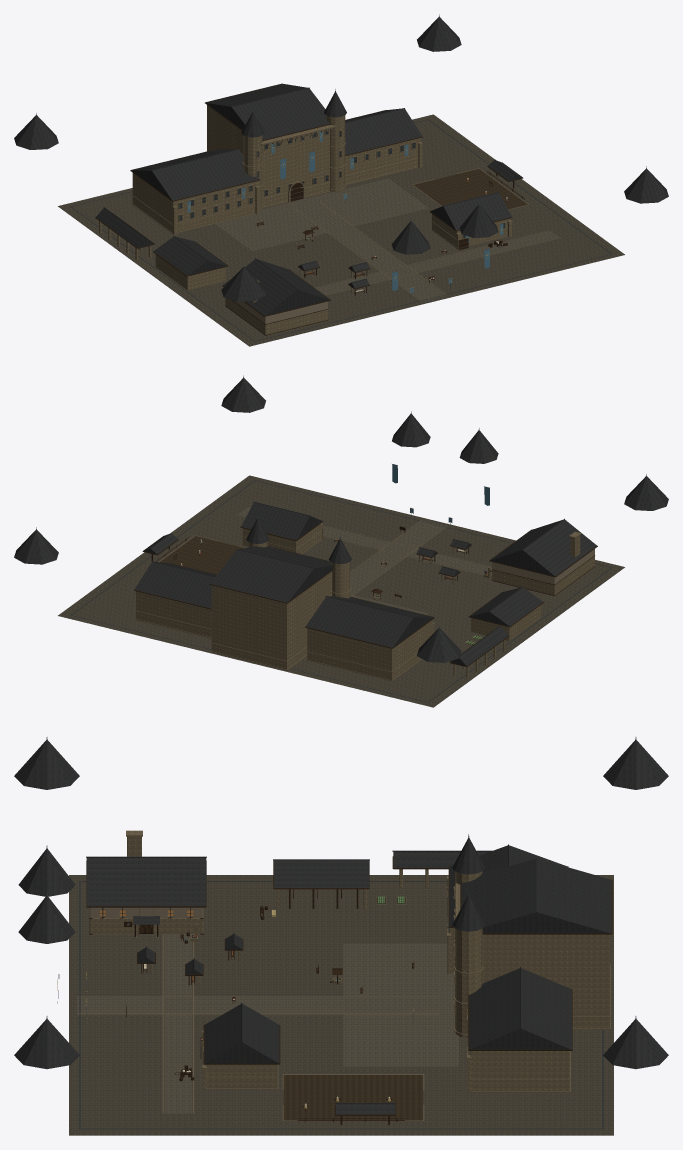
Rendered from courtyard.glb.
3 renders of one model, top to bottom at view 1: azimuth 30°, elevation 25°; view 2: azimuth 150°, elevation 25°; view 3: azimuth 270°, elevation 25°, orthographic. The views are drawn at different scales.
Visible parts, largest first — view 1: Courtyard_paving_courtyard_paving, Courtyard_citadel_dressed_limestone, Courtyard_paving_flagstone, Courtyard_citadel_slate, Courtyard_tower_roofs_slate, Courtyard_tavern_roof_slate, Courtyard_training_sand, Courtyard_stable_building_slate, Courtyard_arsenal_slate, Courtyard_stable_building_dressed_limestone, Courtyard_paving_recess, Courtyard_arsenal_dressed_limestone (+7 smaller); view 2: Courtyard_paving_courtyard_paving, Courtyard_citadel_dressed_limestone, Courtyard_citadel_slate, Courtyard_tower_roofs_slate, Courtyard_paving_flagstone, Courtyard_tavern_roof_slate, Courtyard_arsenal_slate, Courtyard_training_sand, Courtyard_stable_building_slate, Courtyard_paving_recess, Courtyard_arsenal_dressed_limestone, Courtyard_stable_building_dressed_limestone (+5 smaller); view 3: Courtyard_paving_courtyard_paving, Courtyard_paving_flagstone, Courtyard_citadel_slate, Courtyard_citadel_dressed_limestone, Courtyard_tower_roofs_slate, Courtyard_tavern_roof_slate, Courtyard_training_sand, Courtyard_arsenal_slate, Courtyard_stable_building_slate, Courtyard_arsenal_dressed_limestone, Courtyard_paving_recess, Courtyard_tavern_wall_east_dressed_limestone (+6 smaller).
Boxes of the visible parts, x1=… form: Courtyard_paving_courtyard_paving: x1=58, y1=114, x2=624, y2=346; Courtyard_citadel_dressed_limestone: x1=132, y1=105, x2=422, y2=234; Courtyard_paving_flagstone: x1=215, y1=178, x2=559, y2=301; Courtyard_citadel_slate: x1=131, y1=83, x2=422, y2=200; Courtyard_tower_roofs_slate: x1=14, y1=17, x2=668, y2=301; Courtyard_tavern_roof_slate: x1=223, y1=258, x2=329, y2=315; Courtyard_training_sand: x1=413, y1=169, x2=527, y2=209; Courtyard_stable_building_slate: x1=154, y1=236, x2=227, y2=275; Courtyard_arsenal_slate: x1=430, y1=192, x2=511, y2=230; Courtyard_stable_building_dressed_limestone: x1=155, y1=254, x2=225, y2=290; Courtyard_paving_recess: x1=70, y1=119, x2=612, y2=341; Courtyard_arsenal_dressed_limestone: x1=431, y1=214, x2=512, y2=249; Courtyard_paving_courtyard_paving: x1=58, y1=475, x2=624, y2=707; Courtyard_citadel_dressed_limestone: x1=135, y1=542, x2=434, y2=681; Courtyard_citadel_slate: x1=134, y1=518, x2=433, y2=647; Courtyard_tower_roofs_slate: x1=14, y1=378, x2=668, y2=662; Courtyard_paving_flagstone: x1=238, y1=507, x2=491, y2=615; Courtyard_tavern_roof_slate: x1=490, y1=518, x2=596, y2=576; Courtyard_arsenal_slate: x1=241, y1=501, x2=322, y2=540; Courtyard_training_sand: x1=160, y1=536, x2=244, y2=574; Courtyard_stable_building_slate: x1=469, y1=586, x2=542, y2=626; Courtyard_paving_recess: x1=70, y1=480, x2=612, y2=702; Courtyard_arsenal_dressed_limestone: x1=242, y1=523, x2=322, y2=554; Courtyard_stable_building_dressed_limestone: x1=471, y1=605, x2=541, y2=641; Courtyard_paving_courtyard_paving: x1=69, y1=875, x2=613, y2=1135; Courtyard_paving_flagstone: x1=77, y1=934, x2=458, y2=1113; Courtyard_citadel_slate: x1=449, y1=838, x2=611, y2=1049; Courtyard_citadel_dressed_limestone: x1=447, y1=871, x2=610, y2=1092; Courtyard_tower_roofs_slate: x1=14, y1=740, x2=668, y2=1069; Courtyard_tavern_roof_slate: x1=86, y1=856, x2=206, y2=906; Courtyard_training_sand: x1=283, y1=1075, x2=422, y2=1120; Courtyard_arsenal_slate: x1=204, y1=1003, x2=279, y2=1063; Courtyard_stable_building_slate: x1=273, y1=859, x2=369, y2=887; Courtyard_arsenal_dressed_limestone: x1=202, y1=1030, x2=278, y2=1089; Courtyard_paving_recess: x1=79, y1=881, x2=603, y2=1129; Courtyard_tavern_wall_east_dressed_limestone: x1=90, y1=918, x2=202, y2=934.
Size of the model in its own units: 183 by 39.3 by 165.
Materials: 27 (10 with a texture image).
